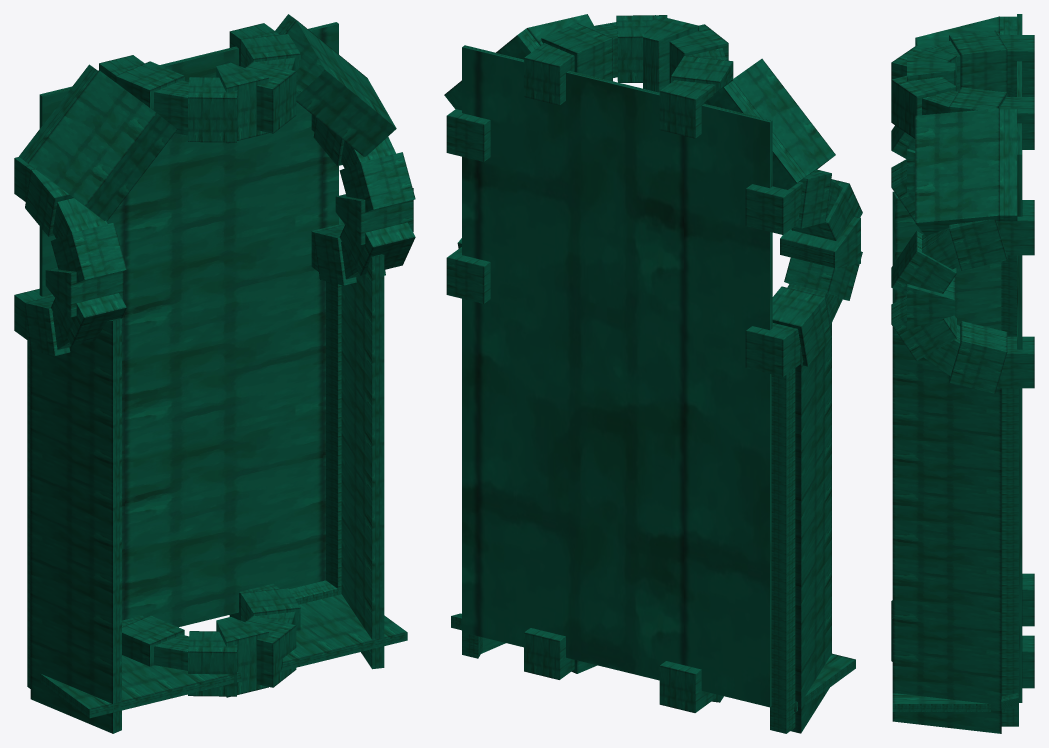
The model's file is stroom4dp_wtf.obj.
3 renders of one model, left to right at view 1: azimuth 30°, elevation 25°; view 2: azimuth 150°, elevation 25°; view 3: azimuth 270°, elevation 25°, orthographic. The views are drawn at different scales.
Parts seen in each view (by area): view 1: group2; view 2: group2; view 3: group2.
Boxes of the visible parts, left/top/right/bottom form: group2: left=14, top=14, right=415, bottom=733; group2: left=444, top=14, right=862, bottom=733; group2: left=891, top=14, right=1034, bottom=733.
Bounding box in the file's own units: 388 × 660 × 143.
